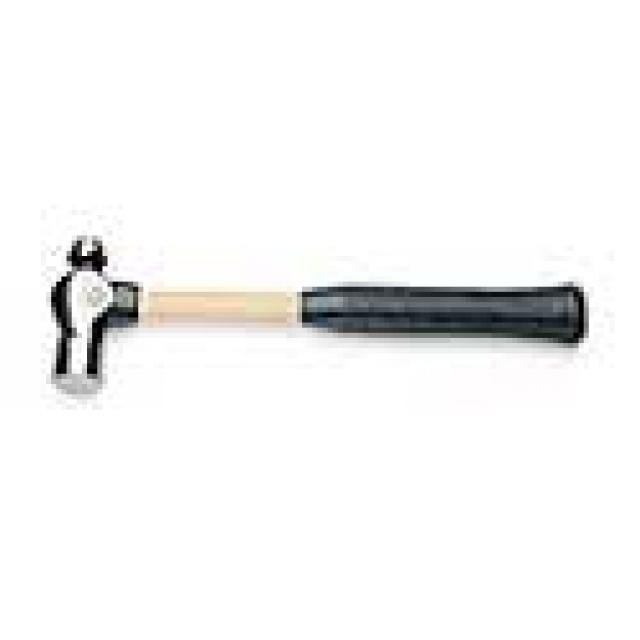hammer: (38, 226, 594, 410)
